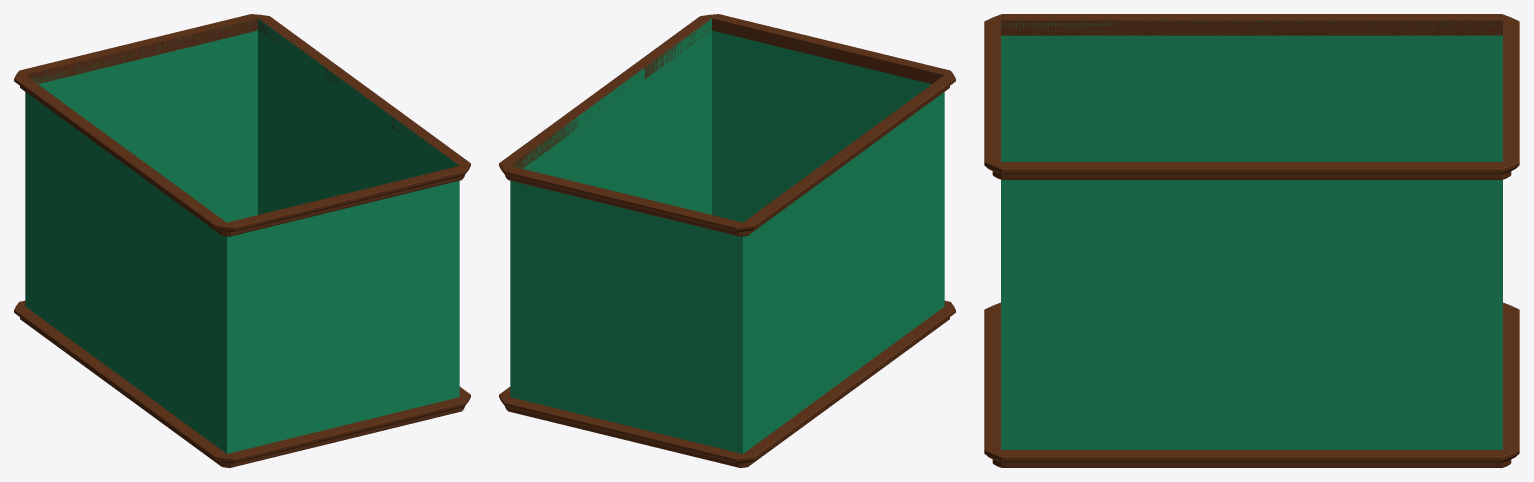
Rendered from Stucco top Corner 6x4x4.fbx.
3 renders of one model, left to right at view 1: azimuth 30°, elevation 25°; view 2: azimuth 150°, elevation 25°; view 3: azimuth 270°, elevation 25°, orthographic. The views are drawn at different scales.
Parts seen in each view (by area): view 1: Stucco TopCorner 6.001; view 2: Stucco TopCorner 6.001; view 3: Stucco TopCorner 6.001.
Part boxes in pixels (x1,y1,x2,y2): Stucco TopCorner 6.001: (14, 14, 470, 467); Stucco TopCorner 6.001: (499, 14, 955, 467); Stucco TopCorner 6.001: (984, 14, 1519, 467).
Bounding box in the file's own units: 440 × 400 × 640.
